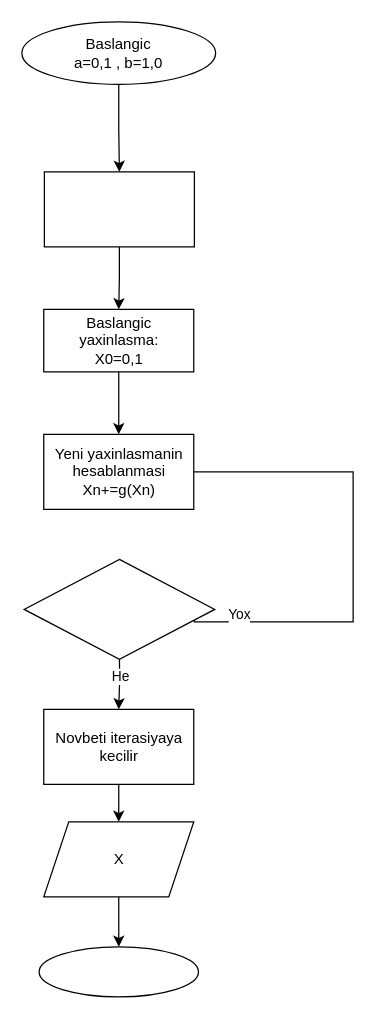
This 385x1019 diagram has some shape labels left out. Here are the shapes that lost their labels. From the top down, the centre of each, then its label:
At point (118, 209): "funksiyani teyin edirik g(X)=exp(x)".
At point (119, 608): "Yaxinlasma sertini yoxlayiriq |Zx+1-Zx|<E(epilson)".
At point (118, 971): "Son".
